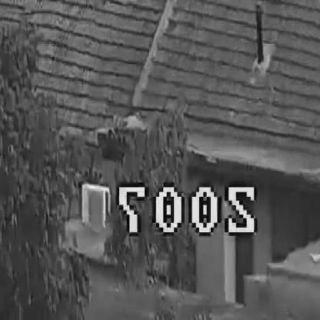other: (143, 4, 319, 103)
